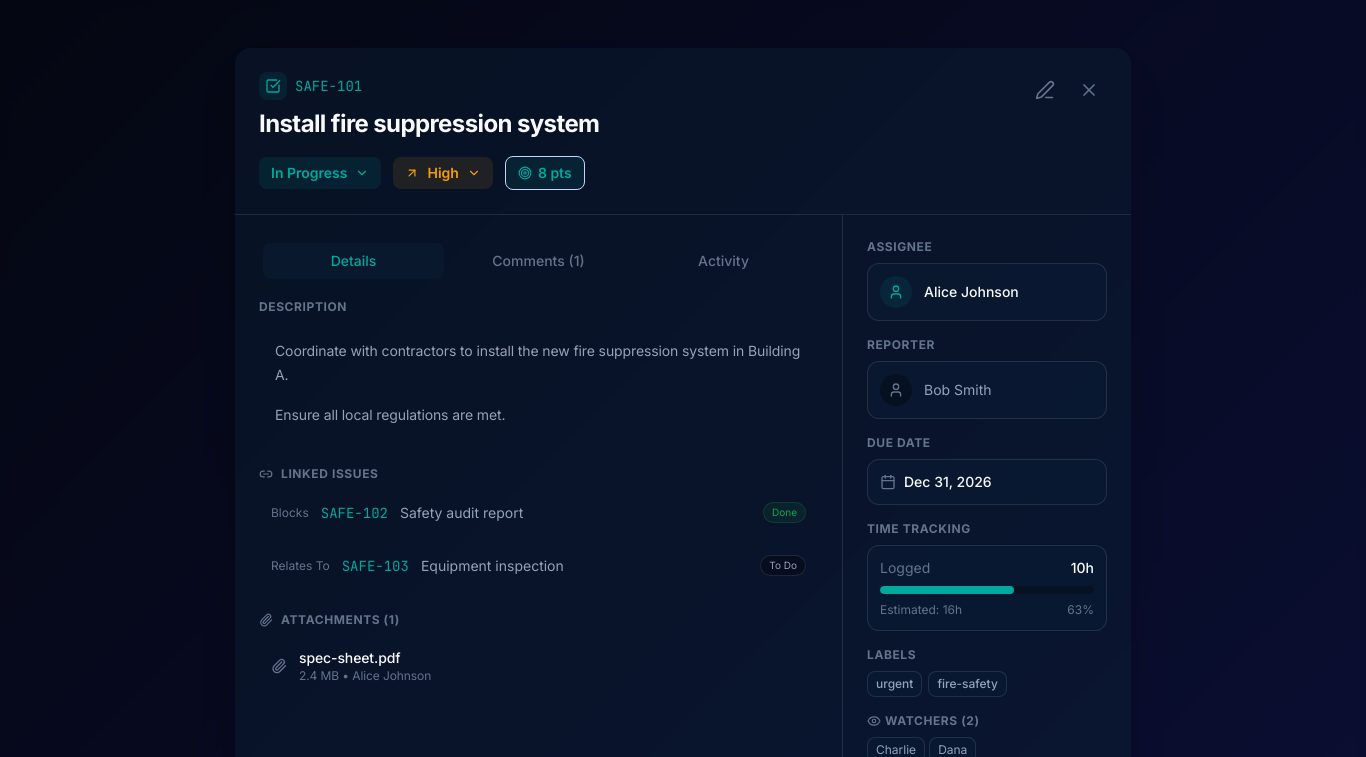
Scenario: TaskDetailModal — inline edit › edit mode is exited after Save Changes
Click the button with class "lucide-pen-line".
click(1045, 90)  # box [1027, 72, 1063, 108]
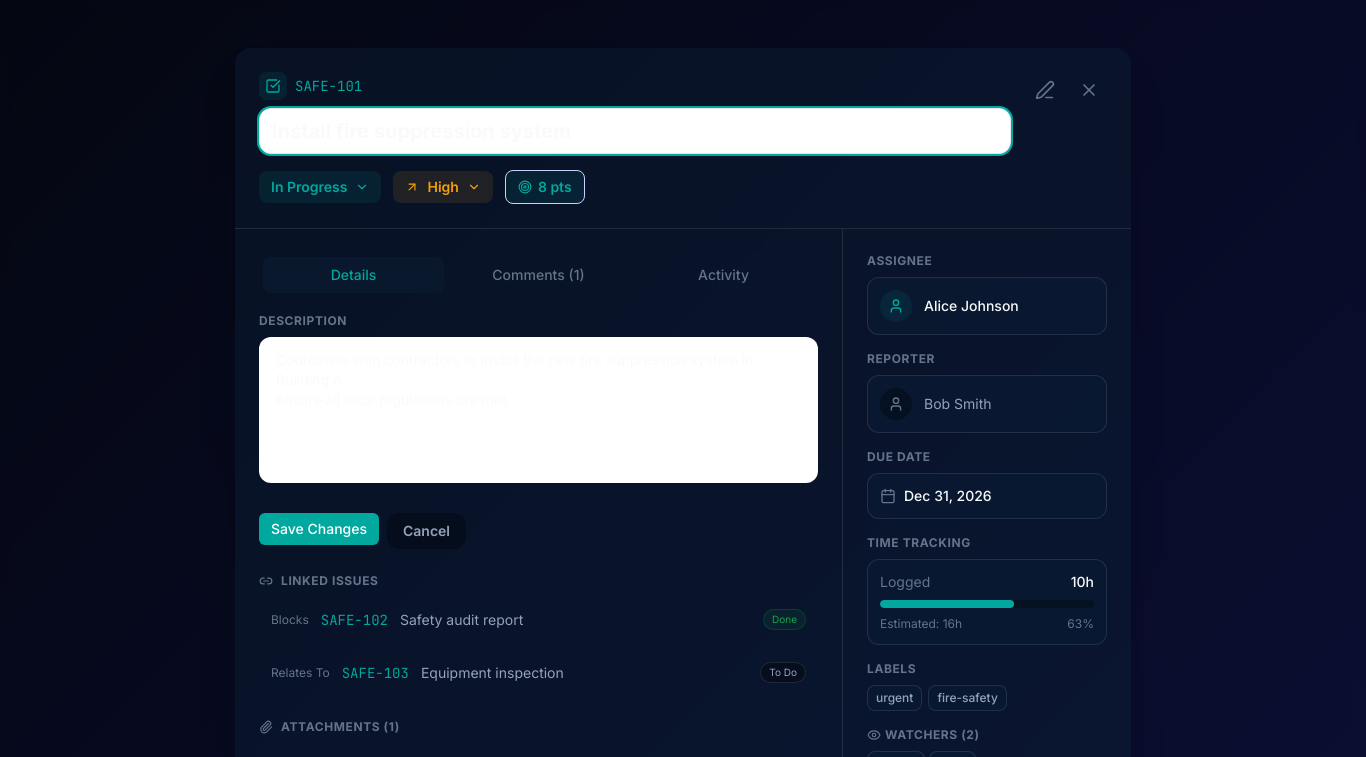
Click the button "Save Changes".
click(319, 529)  # box [259, 513, 379, 545]
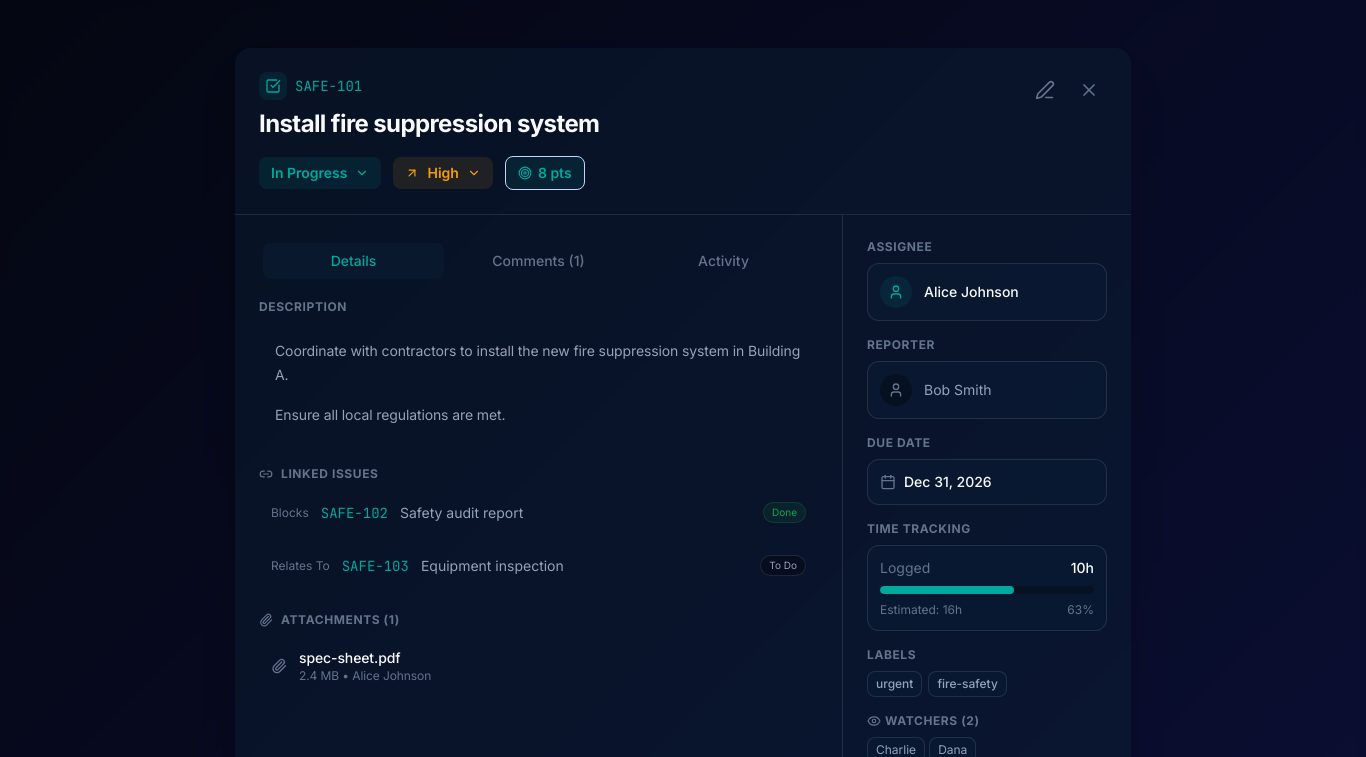
Now the button "Save Changes" is gone
